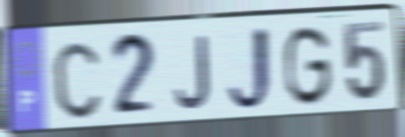2: (107, 30, 163, 124)
5: (339, 20, 388, 105)
C: (50, 39, 103, 122)
G: (282, 23, 334, 110)
J: (224, 23, 278, 116), (172, 33, 214, 113)
